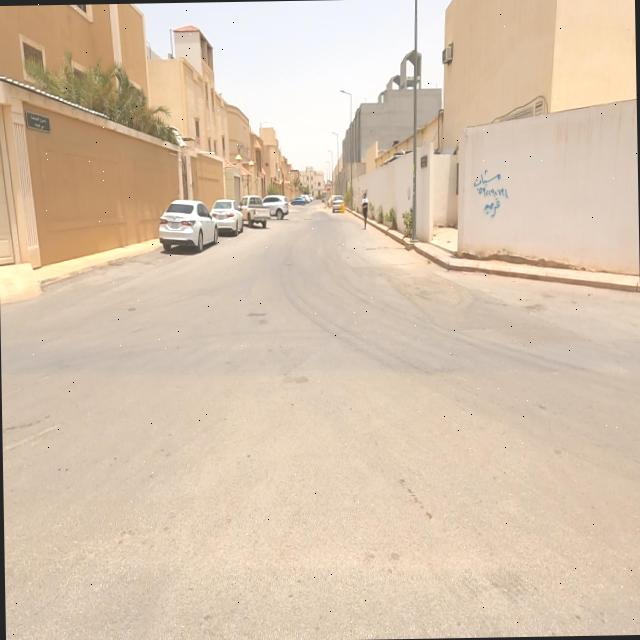Graffiti: (475, 171, 509, 220)
